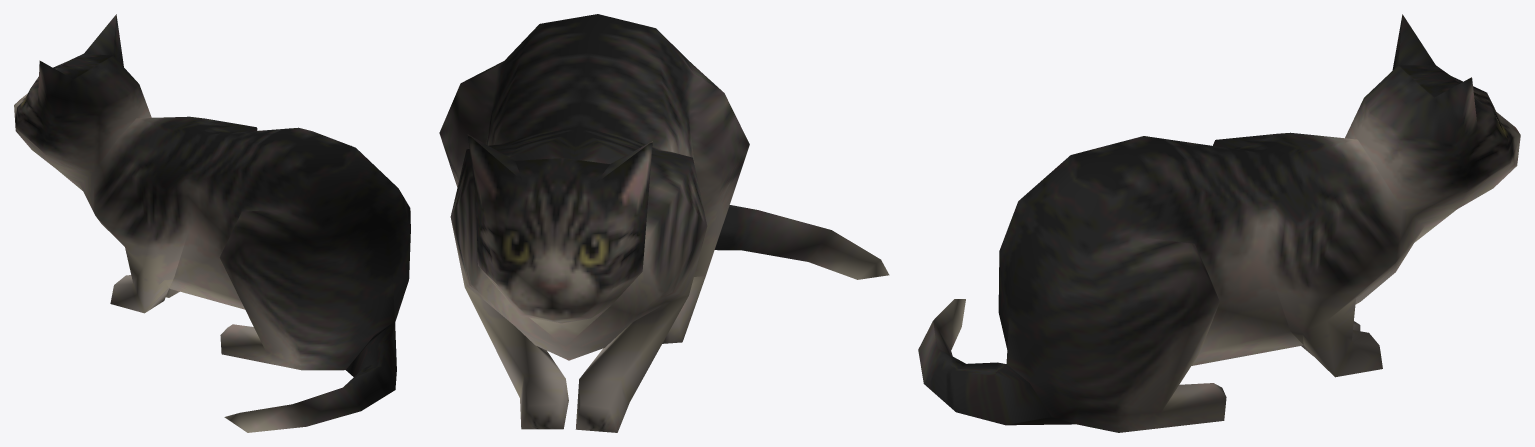
File: samurai2.ico.obj
3 renders of one model, left to right at view 1: azimuth 30°, elevation 25°; view 2: azimuth 150°, elevation 25°; view 3: azimuth 270°, elevation 25°, orthographic. The views are drawn at different scales.
Bounding box in the file's own units: 2.82 × 2.56 × 4.76.
1 material, 1 textured.
